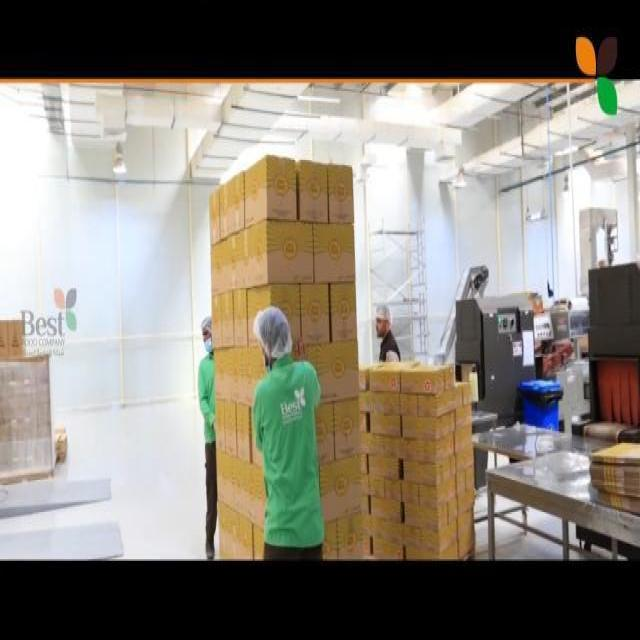bare_hand: (292, 327, 310, 372)
